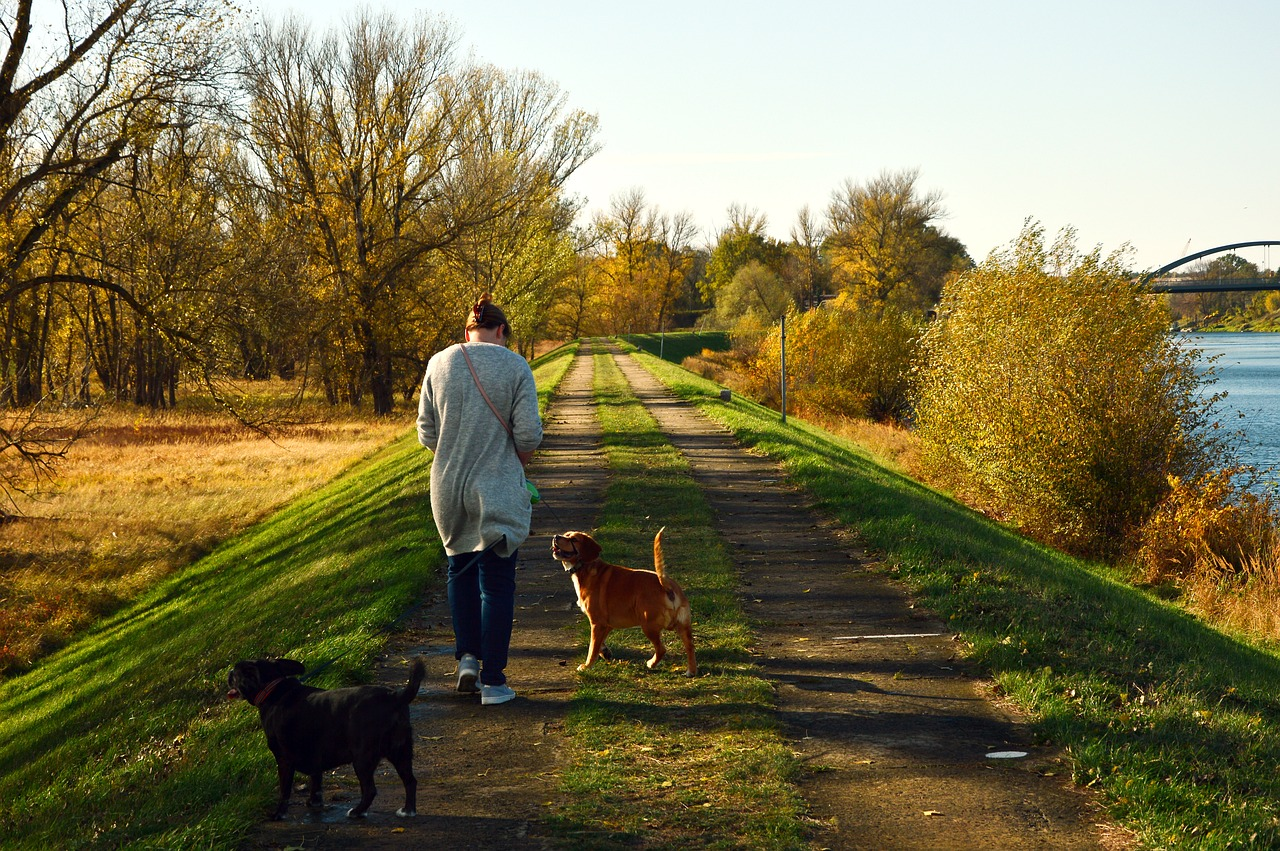Dog: (233, 655, 439, 821), (547, 525, 702, 673)
Human: (415, 300, 545, 711)
